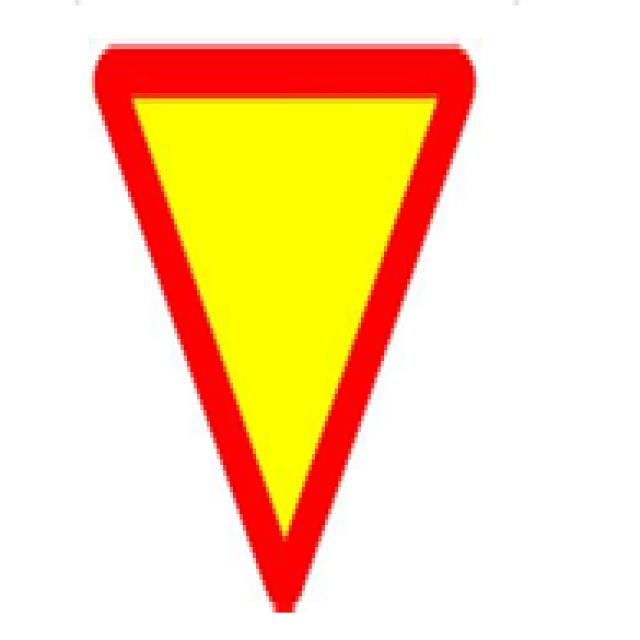Bien bao giao nhau voi duong uu tien: (57, 13, 473, 623)
